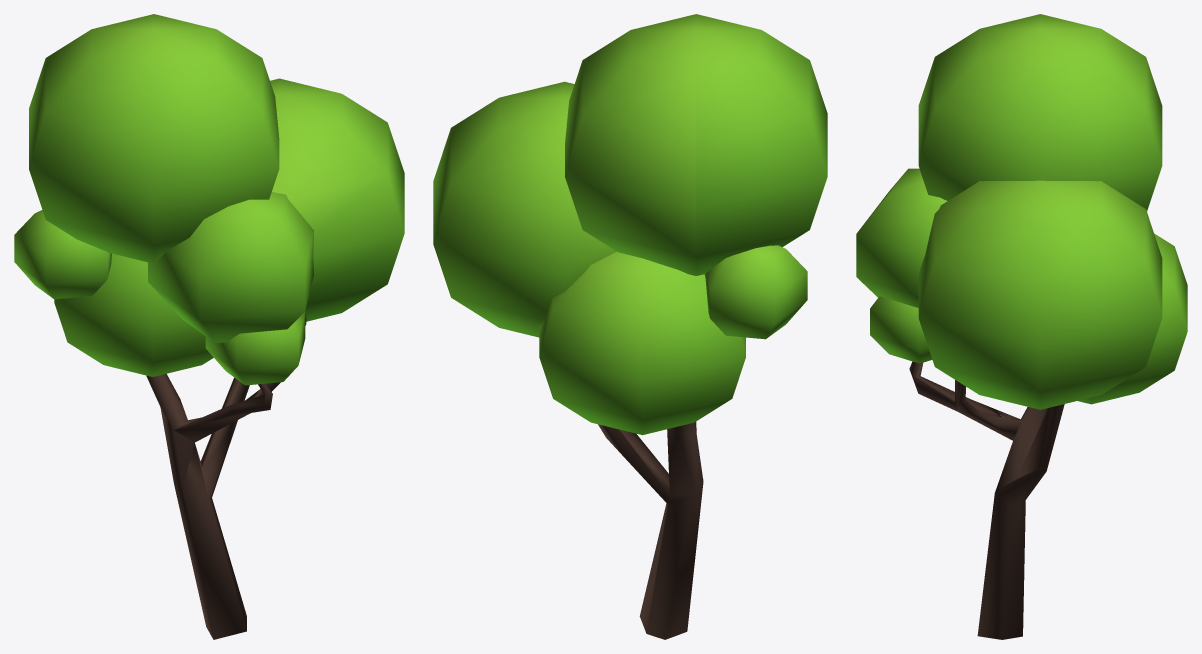
File: Trees_02.FBX
3 views of the same model, side by side, from view 1: azimuth 30°, elevation 25°; view 2: azimuth 150°, elevation 25°; view 3: azimuth 270°, elevation 25° (orthographic). The views are drawn at different scales.
Visible parts, largest first — view 1: Tree_02; view 2: Tree_02; view 3: Tree_02.
Part boxes in pixels (bbox=[...]): Tree_02: bbox=[14, 14, 404, 639]; Tree_02: bbox=[433, 14, 827, 639]; Tree_02: bbox=[856, 14, 1187, 639].
Bounding box in the file's own units: 158 × 240 × 123.
